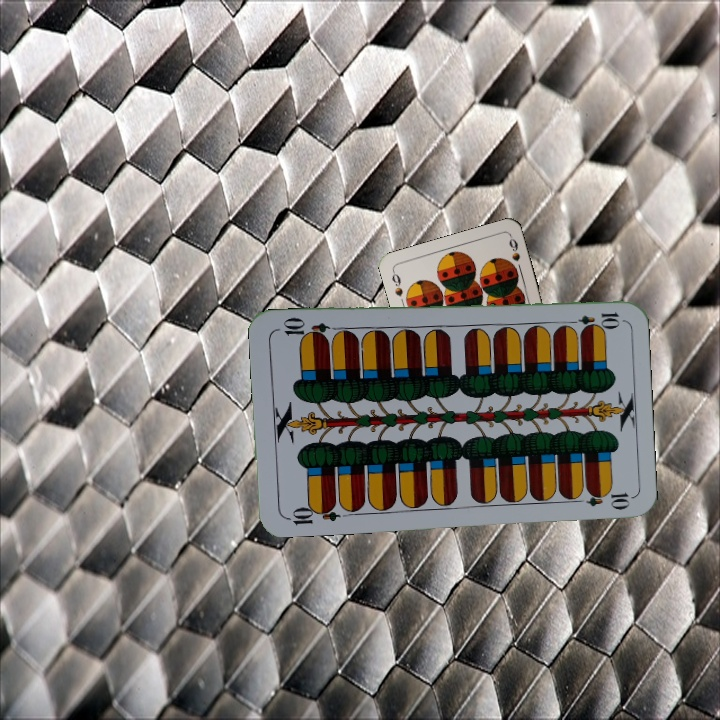E10: (282, 499, 341, 527), (563, 308, 622, 329)
S9: (388, 267, 406, 299)
